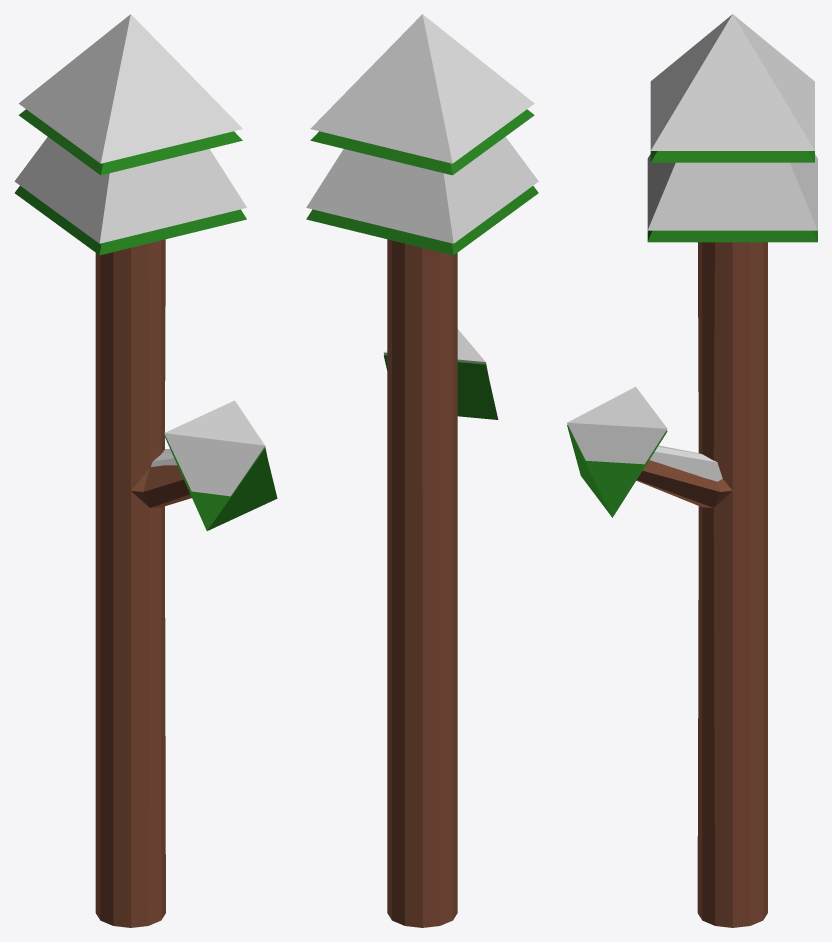
File: Tree_25_winter_mat.fbx
3 views of the same model, side by side, from view 1: azimuth 30°, elevation 25°; view 2: azimuth 150°, elevation 25°; view 3: azimuth 270°, elevation 25° (orthographic).
Visible parts, largest first — view 1: Tree_25_winter_mat; view 2: Tree_25_winter_mat; view 3: Tree_25_winter_mat.
Boxes of the visible parts, box(x1,y1,x2,y2) form: Tree_25_winter_mat: box(14, 14, 277, 927); Tree_25_winter_mat: box(306, 14, 538, 927); Tree_25_winter_mat: box(567, 14, 817, 927).
Bounding box in the file's own units: 58.32 × 312 × 79.03.
